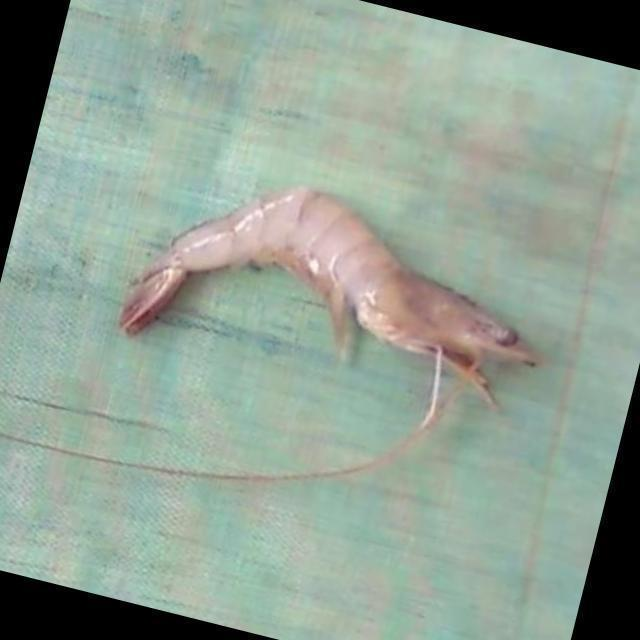shrimp: (119, 187, 542, 425)
